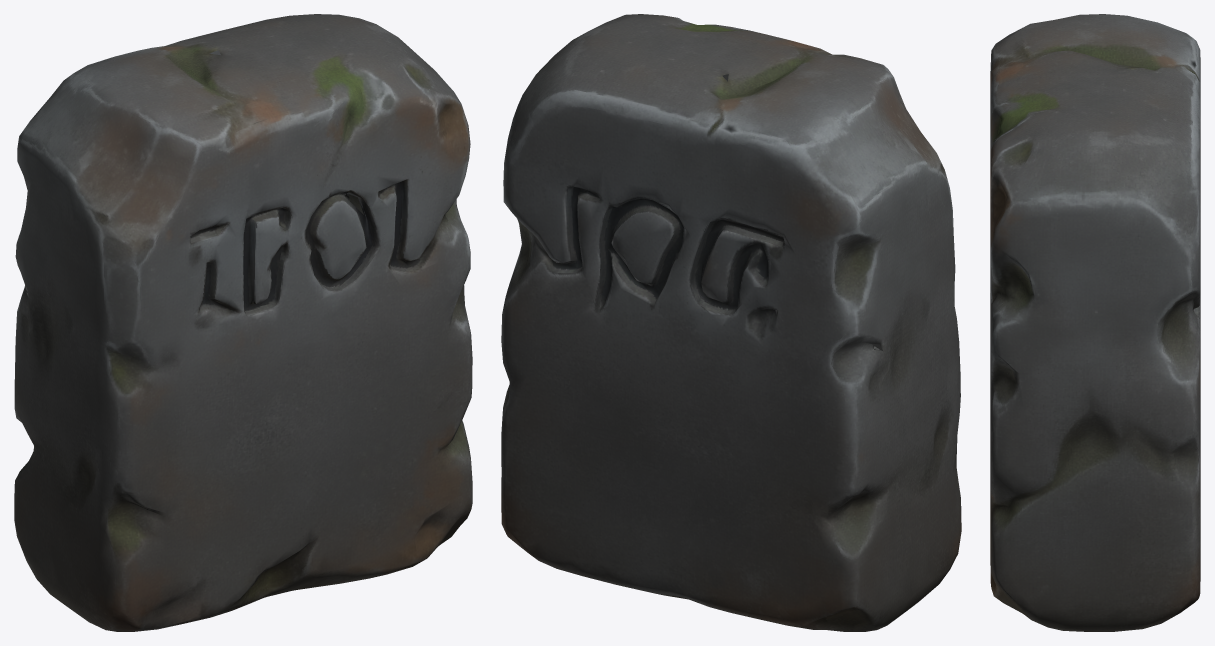
The model's file is crypt_StoneTablet.glb.
The picture shows the model from 3 angles, left to right: view 1: azimuth 30°, elevation 25°; view 2: azimuth 150°, elevation 25°; view 3: azimuth 270°, elevation 25°; orthographic projection. The views are drawn at different scales.
Visible parts, largest first — view 1: world; view 2: world; view 3: world.
Boxes of the visible parts, x1,y1,x2,y2 form: world: [14, 14, 472, 631]; world: [501, 14, 961, 631]; world: [990, 14, 1200, 631].
Bounding box in the file's own units: 0.7475 × 1 × 0.3902.
1 material, 1 textured.
